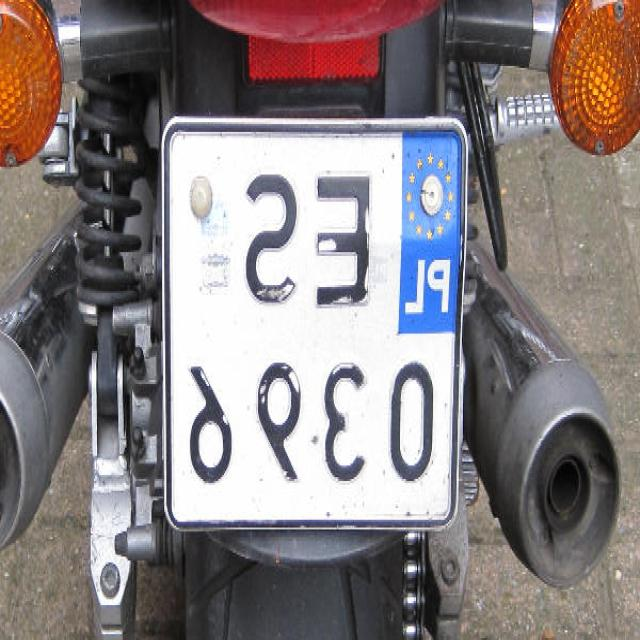pl_license_plate: (172, 130, 461, 518)
